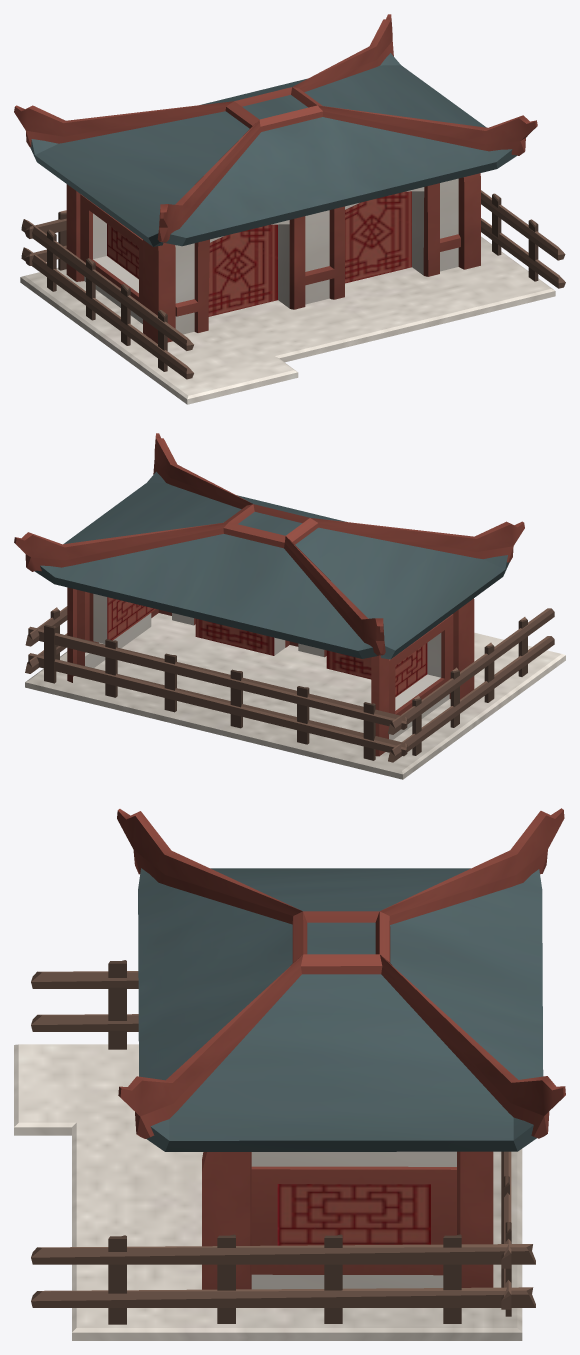
File: Camp_1lvl.fbx
The picture shows the model from 3 angles, top to bottom: view 1: azimuth 30°, elevation 25°; view 2: azimuth 150°, elevation 25°; view 3: azimuth 270°, elevation 25°; orthographic projection. The views are drawn at different scales.
Parts seen in each view (by area): view 1: Camp_1lvl; view 2: Camp_1lvl; view 3: Camp_1lvl.
Part boxes in pixels (x1,y1,x2,y2): Camp_1lvl: (14, 14, 565, 404); Camp_1lvl: (14, 433, 565, 779); Camp_1lvl: (14, 808, 565, 1340).
Bounding box in the file's own units: 6.01 × 2.59 × 4.87.
Materials: 1 (1 with a texture image).
